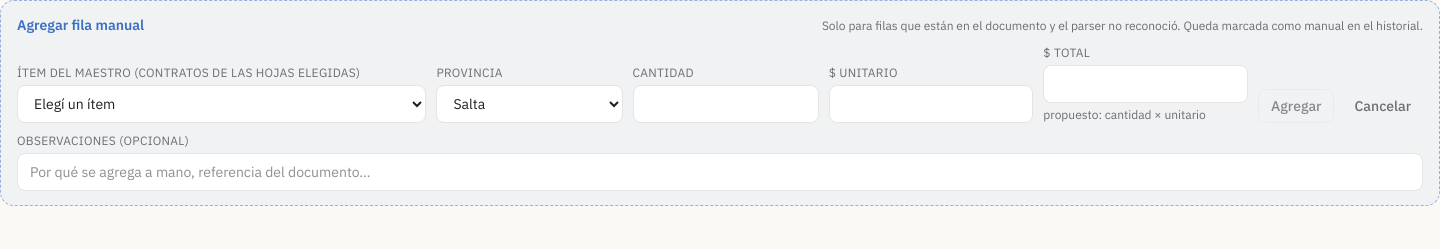
Test: FilaManualForm › Agregar queda deshabilitado hasta tener ítem, provincia, cantidad y unitario
Check: the button "Agregar" is disabled, box [1258, 89, 1334, 123]
Select "K8 · 5 · Adicional para servicios que superen los 3 metros" in the dropdown labelled "Ítem del maestro (contratos de las hojas elegidas)": [222, 104] box [17, 85, 426, 123]
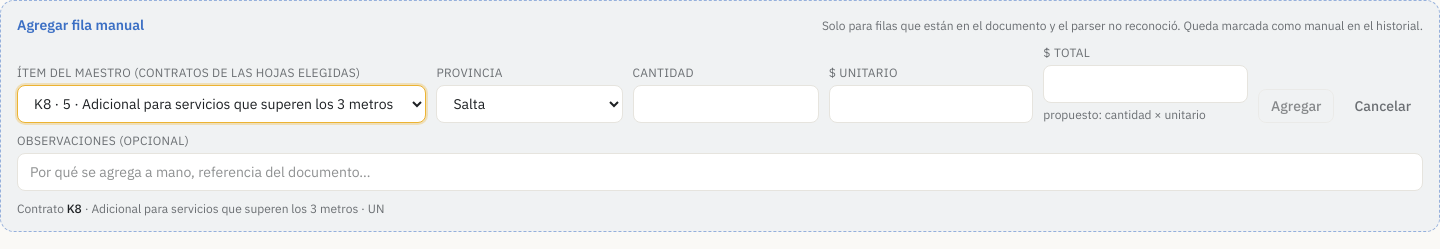
Check: the button "Agregar" is disabled, box [1258, 89, 1334, 123]
In the field labelled "Cantidad": [726, 104] box [632, 85, 819, 123], type "4"
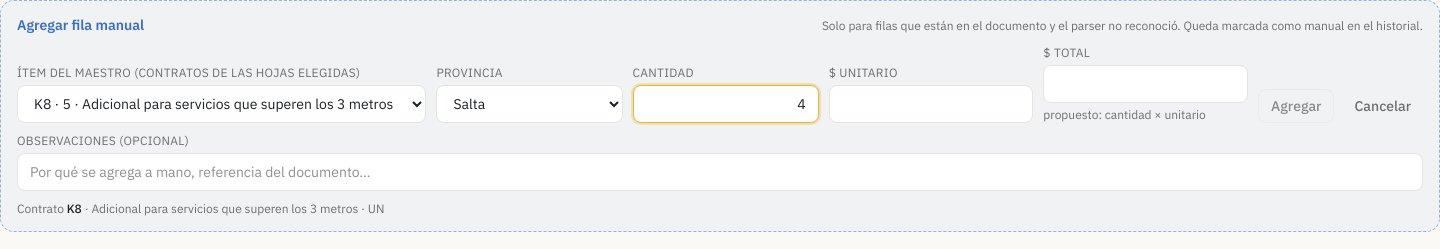
Check: the button "Agregar" is disabled, box [1258, 89, 1334, 123]
In the field labelled "$ Unitario": [931, 104] box [829, 85, 1033, 123], type "15151,96"
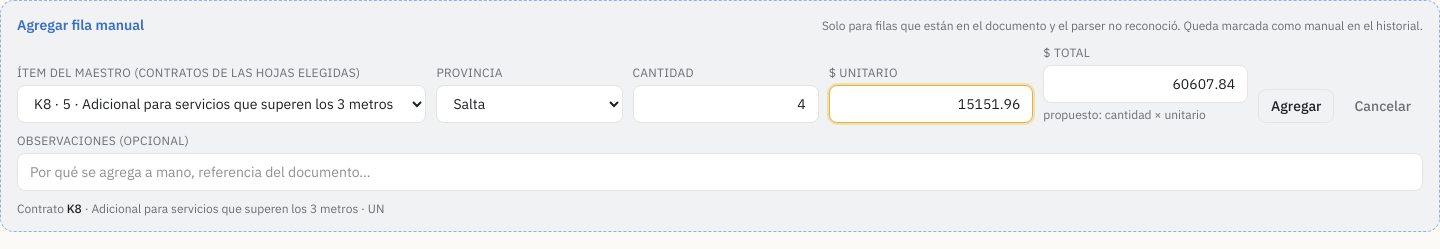
Check: the button "Agregar" is enabled, box [1258, 89, 1334, 123]
